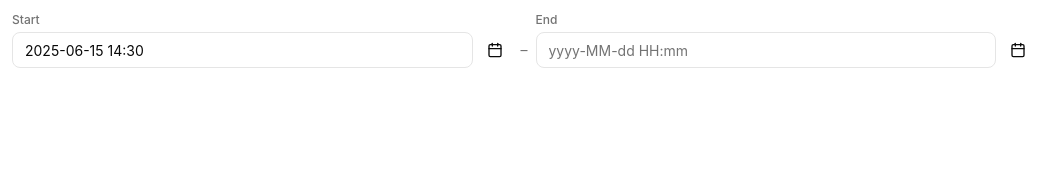
Test: DateTimeRangePicker › reverts start input on invalid confirm
The image size is (1048, 172).
Replace the text in the field showing "2025-06-15 14:30" with "invalid" at (242, 50), box [12, 32, 472, 68]
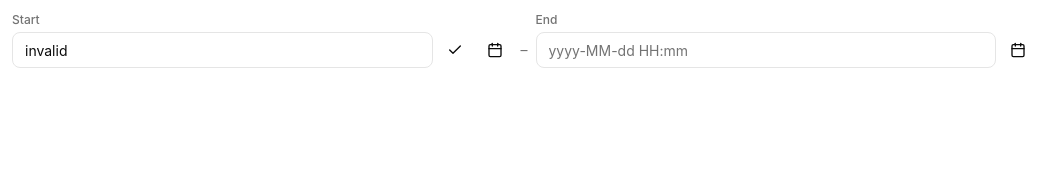
Click the button named "Confirm date input" at (454, 50), box [436, 32, 472, 68]
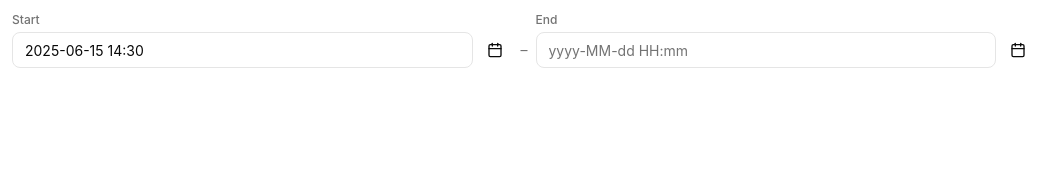
Now the field showing "2025-06-15 14:30" holds "2025-06-15 14:30", box [12, 32, 472, 68]
